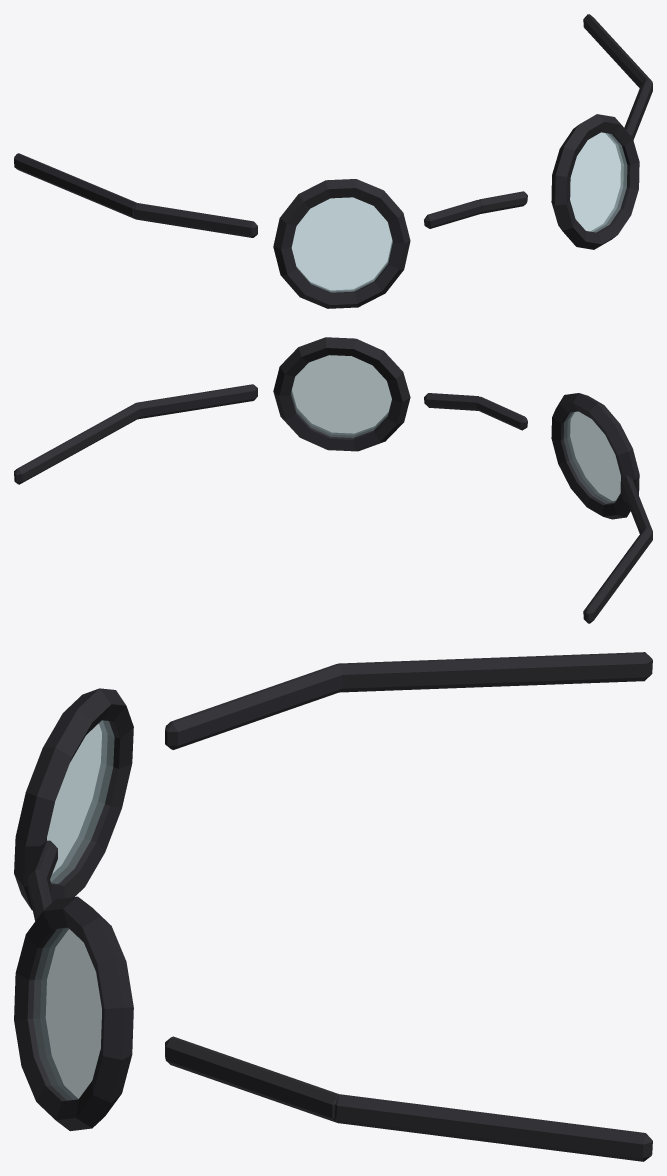
The model's file is glasses.glb.
3 views of the same model, one above another, from view 1: azimuth 30°, elevation 25°; view 2: azimuth 150°, elevation 25°; view 3: azimuth 270°, elevation 25° (orthographic). The views are drawn at different scales.
Visible parts, largest first — view 1: glasses; view 2: glasses; view 3: glasses.
Boxes of the visible parts, x1,y1,x2,y2 form: glasses: [14, 14, 652, 308]; glasses: [14, 337, 652, 623]; glasses: [14, 652, 652, 1161].
Bounding box in the file's own units: 0.6111 × 0.1216 × 0.3377.
